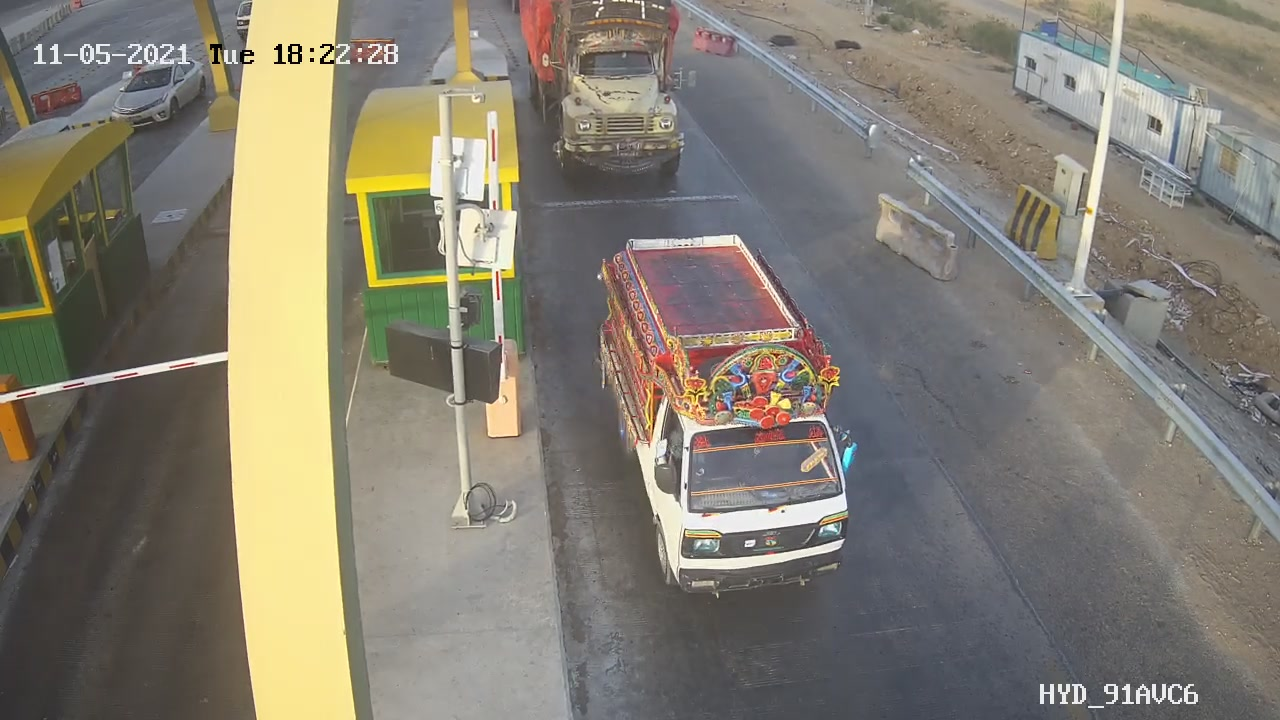F1: (589, 245, 867, 596)
F5: (529, 1, 696, 184)
